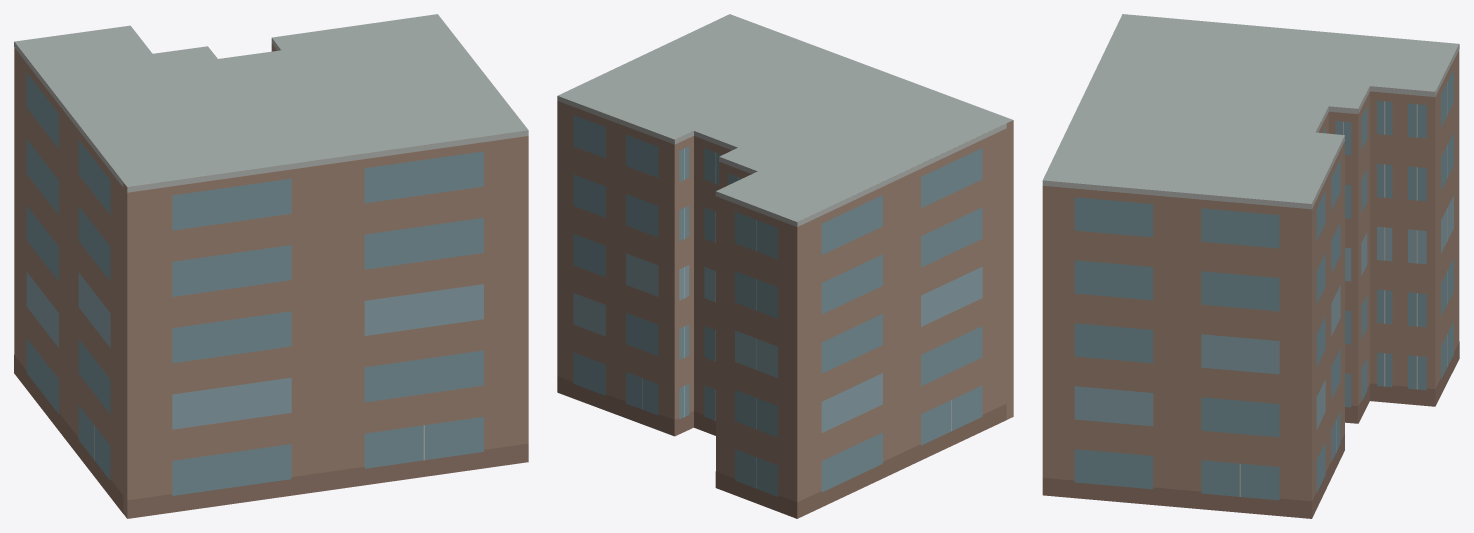
The model's file is survey-upis-32589215.glb.
The picture shows the model from 3 angles, left to right: view 1: azimuth 30°, elevation 25°; view 2: azimuth 150°, elevation 25°; view 3: azimuth 270°, elevation 25°; orthographic projection. The views are drawn at different scales.
Parts seen in each view (by area): view 1: survey-upis-32589215.tmp; view 2: survey-upis-32589215.tmp; view 3: survey-upis-32589215.tmp.
Boxes of the visible parts, x1,y1,x2,y2 form: survey-upis-32589215.tmp: (14,14,528,518); survey-upis-32589215.tmp: (557,14,1013,518); survey-upis-32589215.tmp: (1042,14,1459,518).
Bounding box in the file's own units: 18.77 × 14.5 × 17.41.
